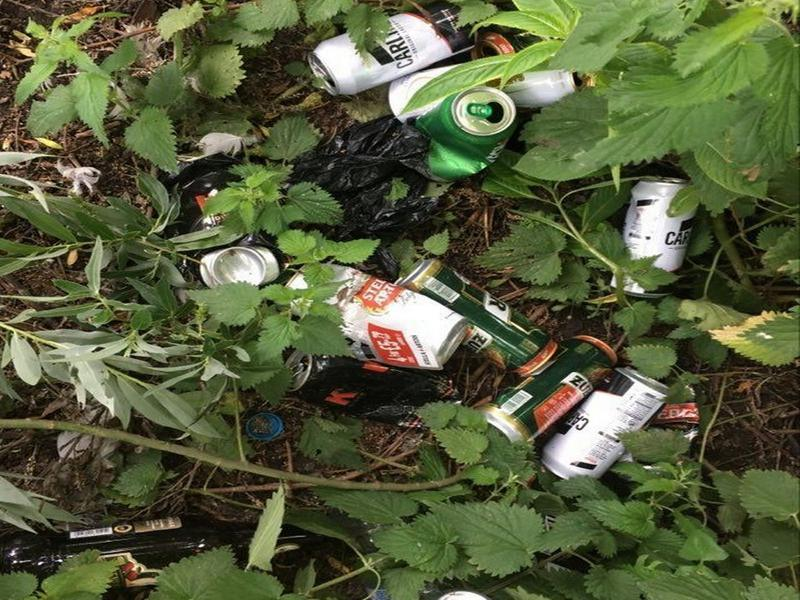can: (276, 257, 469, 374), (387, 253, 559, 381), (476, 328, 624, 456), (538, 356, 671, 484), (299, 6, 484, 96), (607, 173, 706, 304), (421, 81, 521, 183)
